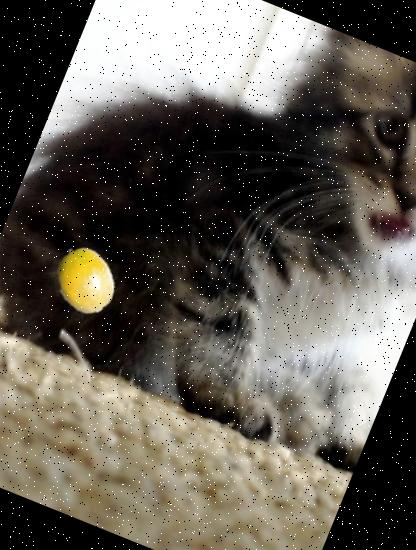Maracuja: (40, 234, 130, 324)
